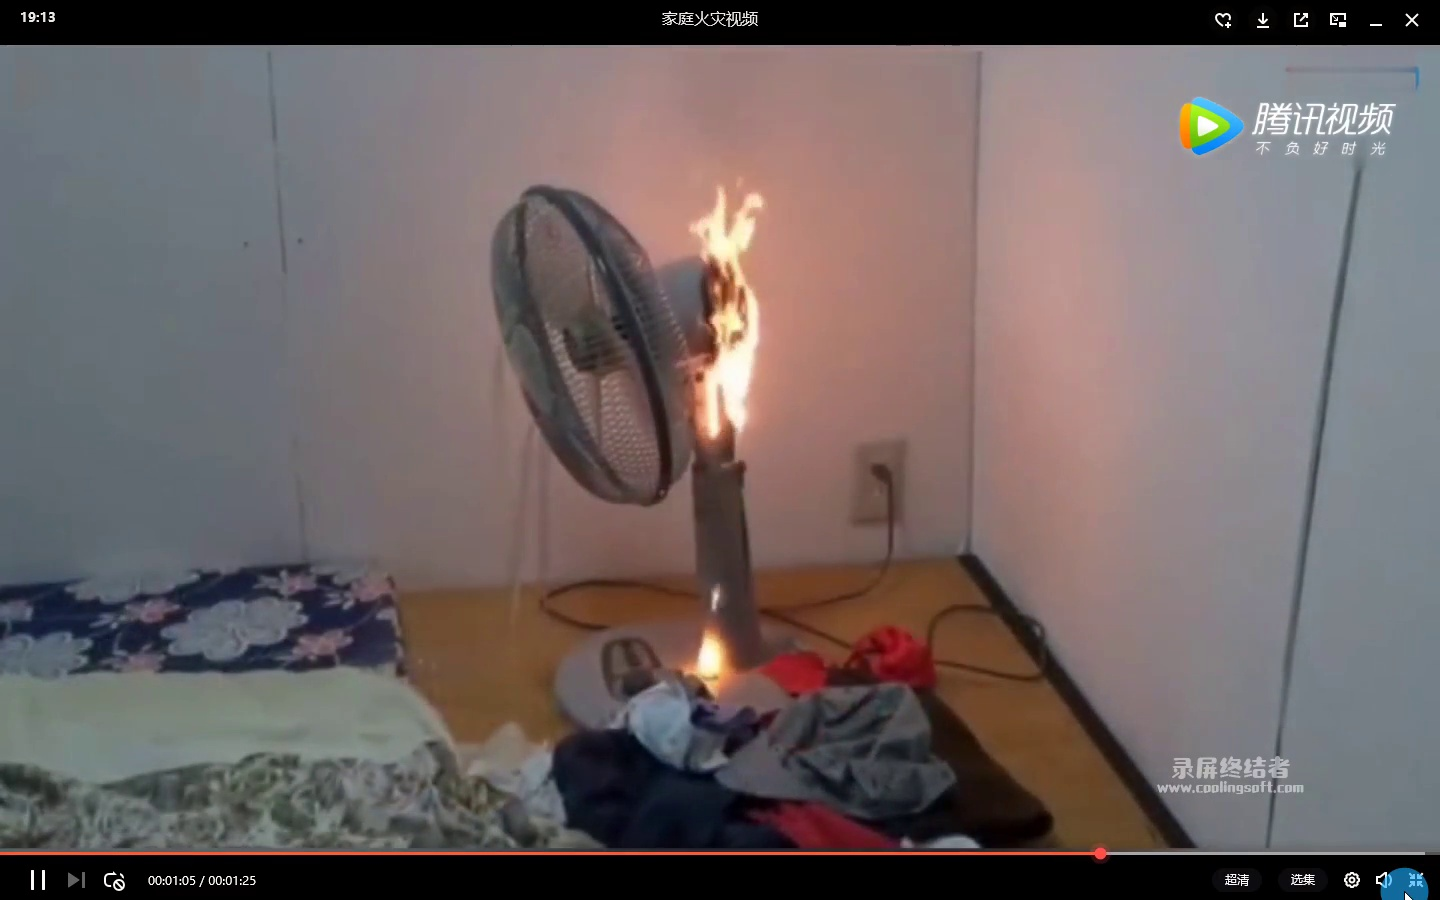fire: (698, 175, 788, 442)
